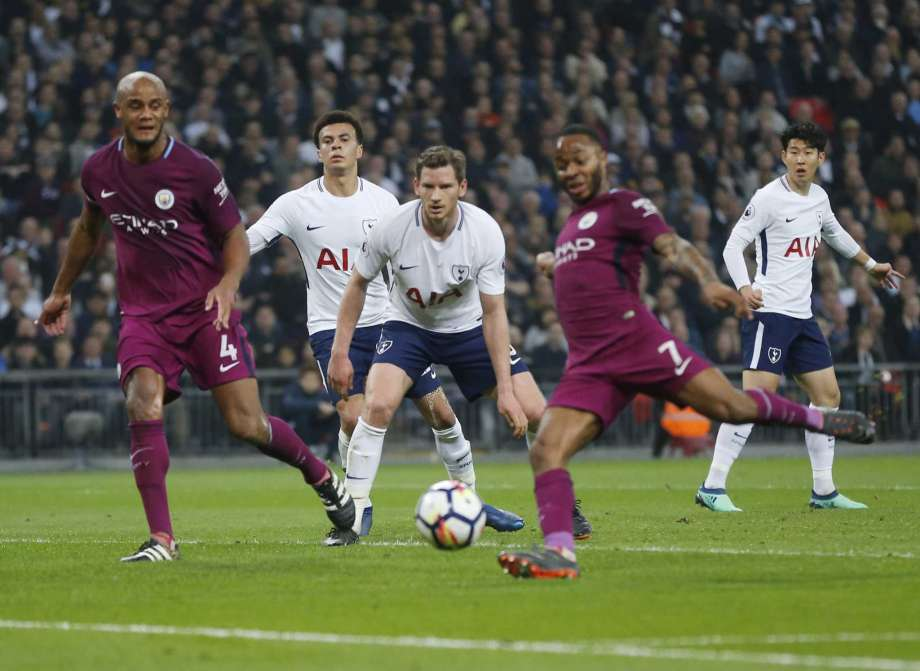soccer player: (31, 67, 348, 546), (524, 112, 726, 589), (335, 122, 543, 531), (715, 93, 866, 525), (245, 88, 399, 428)
soccerball: (405, 476, 492, 554)
